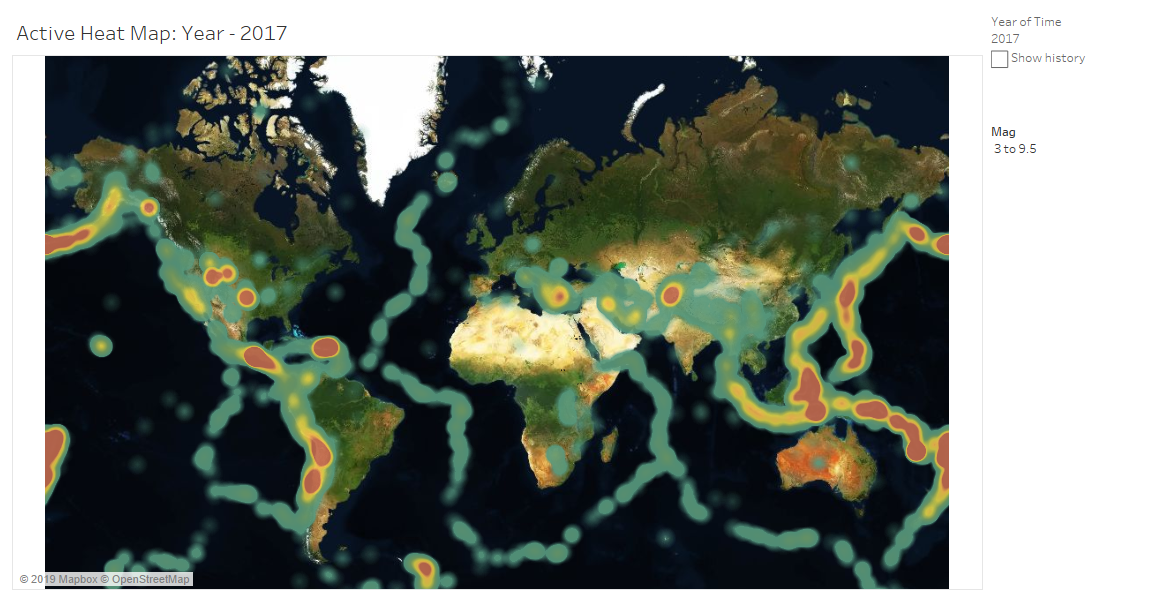

Layout of this report page (visuals, bound fields, positions):
{"tool":"tableau","page":{"name":"Active Heat Map","canvas":[1000,1000],"units":"permille","ordinal":0},"visuals":[{"type":"worksheet","title":"Active Heat Map: Year","mark":"Heatmap","rows":["lon"],"cols":["lat"],"box":[6.9,13.3,847.6,973.4]},{"type":"currpage","title":"Active Heat Map: Year","box":[854.5,13.3,138.5,182.7]},{"type":"filter","title":"Active Heat Map: Year","param":"[federated.14g24vn1bp0nln18c534e06es7gj].[none:mag:qk]","box":[854.5,196,138.5,114.6]}]}

Visuals, with their boxes on the dashboard's canvas, which has no fixed pixel size, in thousandths of its width and height (x1, y1, x2, y2). These are canvas units, not pixel positions in the 1155x602 screenshot, which may show the page scaled, cropped or inside an application window:
"Active Heat Map: Year" worksheet (Heatmap marks): bbox(7, 13, 854, 987)
"Active Heat Map: Year" currpage: bbox(854, 13, 993, 196)
"Active Heat Map: Year" filter: bbox(854, 196, 993, 311)
